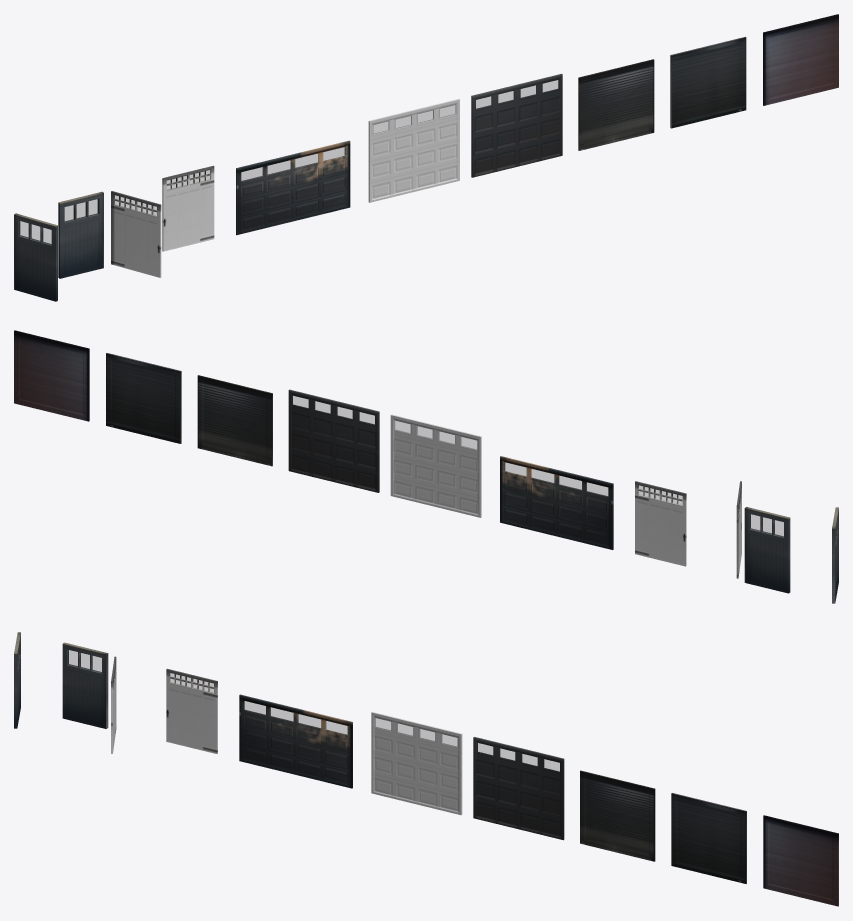
The model's file is low-poly_psx_style_garage_doors_pack.glb.
3 renders of one model, top to bottom at view 1: azimuth 30°, elevation 25°; view 2: azimuth 150°, elevation 25°; view 3: azimuth 330°, elevation 25°, orthographic.
Visible parts, largest first — view 1: Garage Door_008, Garage Door_006, Garage Door_005, Garage Door_001, Garage Door_007, Garage Door_003, Garage Door_009, Garage Door_004, Garage Door_010, Garage Door_002; view 2: Garage Door_008, Garage Door_005, Garage Door_006, Garage Door_003, Garage Door_001, Garage Door_007, Garage Door_009, Garage Door_010, Garage Door_002; view 3: Garage Door_008, Garage Door_006, Garage Door_005, Garage Door_003, Garage Door_001, Garage Door_007, Garage Door_009, Garage Door_010, Garage Door_002.
Part boxes in pixels (left/top/right/bottom): Garage Door_008: left=236, top=140, right=350, bottom=235; Garage Door_006: left=471, top=73, right=562, bottom=177; Garage Door_005: left=368, top=99, right=459, bottom=202; Garage Door_001: left=670, top=36, right=746, bottom=128; Garage Door_007: left=578, top=59, right=654, bottom=150; Garage Door_003: left=763, top=14, right=838, bottom=105; Garage Door_009: left=162, top=165, right=214, bottom=251; Garage Door_004: left=111, top=191, right=161, bottom=277; Garage Door_010: left=58, top=191, right=103, bottom=278; Garage Door_002: left=14, top=213, right=57, bottom=301; Garage Door_008: left=500, top=456, right=613, bottom=549; Garage Door_005: left=390, top=414, right=481, bottom=517; Garage Door_006: left=288, top=389, right=379, bottom=492; Garage Door_003: left=14, top=330, right=89, bottom=421; Garage Door_001: left=106, top=353, right=181, bottom=443; Garage Door_007: left=197, top=375, right=272, bottom=466; Garage Door_009: left=635, top=481, right=686, bottom=566; Garage Door_010: left=744, top=507, right=790, bottom=593; Garage Door_002: left=832, top=507, right=838, bottom=603; Garage Door_008: left=239, top=694, right=352, bottom=788; Garage Door_006: left=473, top=737, right=564, bottom=840; Garage Door_005: left=371, top=712, right=462, bottom=815; Garage Door_003: left=763, top=815, right=838, bottom=906; Garage Door_001: left=671, top=793, right=746, bottom=883; Garage Door_007: left=580, top=770, right=655, bottom=861; Garage Door_009: left=166, top=668, right=217, bottom=753; Garage Door_010: left=62, top=642, right=108, bottom=728; Garage Door_002: left=14, top=632, right=20, bottom=728.
Size of the model in its own units: 40.08 by 3.78 by 2.32.
2 materials, 1 textured.
